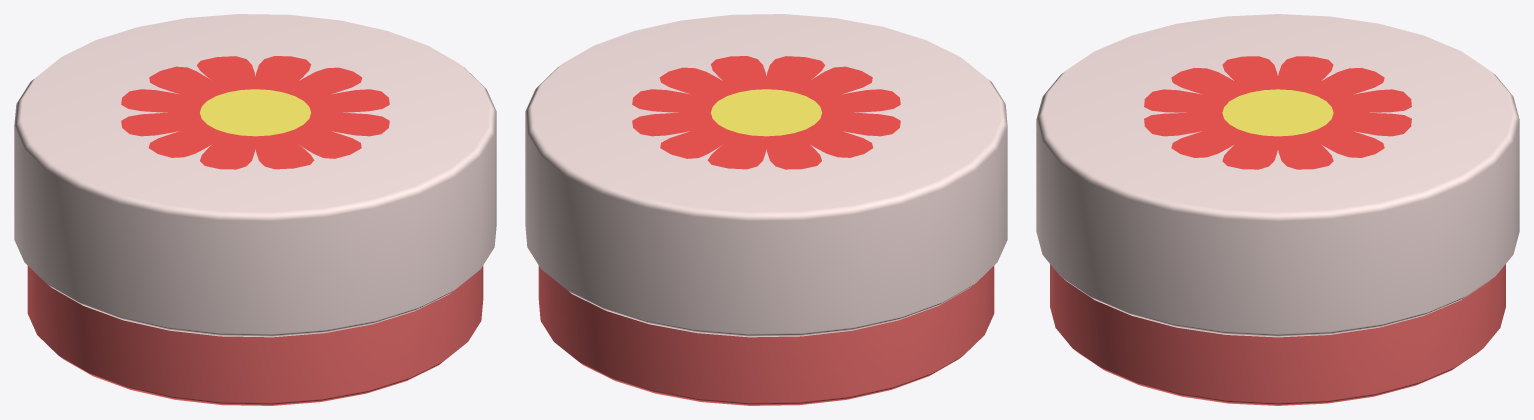
The model's file is Store_17_Cream_3.glb.
3 renders of one model, left to right at view 1: azimuth 30°, elevation 25°; view 2: azimuth 150°, elevation 25°; view 3: azimuth 270°, elevation 25°, orthographic.
Visible parts, largest first — view 1: Store_17_Cream_3; view 2: Store_17_Cream_3; view 3: Store_17_Cream_3.
Part boxes in pixels (bbox=[...]): Store_17_Cream_3: bbox=[14, 14, 496, 405]; Store_17_Cream_3: bbox=[525, 14, 1007, 405]; Store_17_Cream_3: bbox=[1036, 14, 1519, 405].
Size of the model in its own units: 0.7873 by 0.3586 by 0.7873.
Materials: 1 (1 with a texture image).
